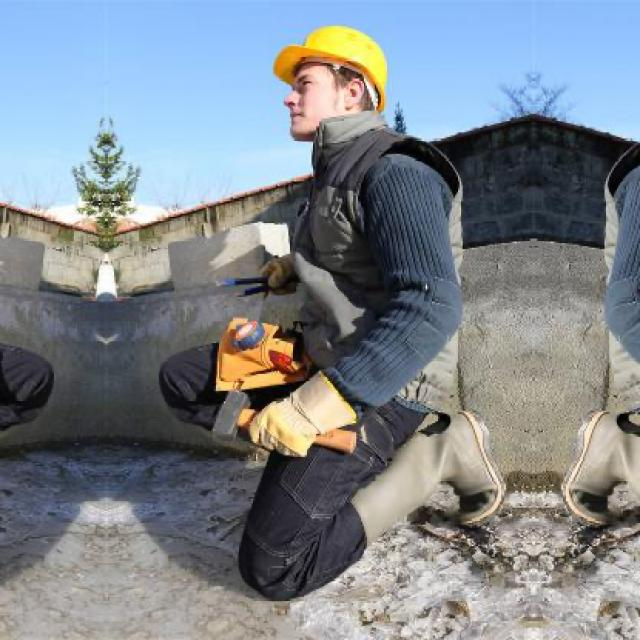helmet: (264, 15, 412, 140)
